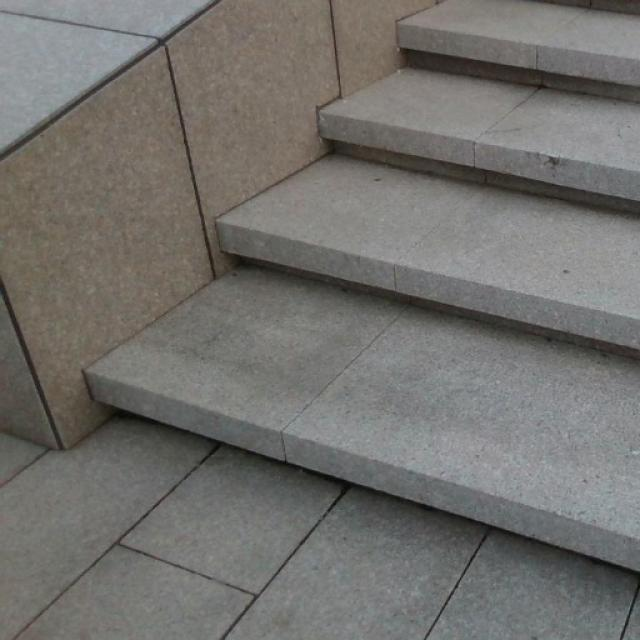Stairs: (80, 0, 639, 585)
